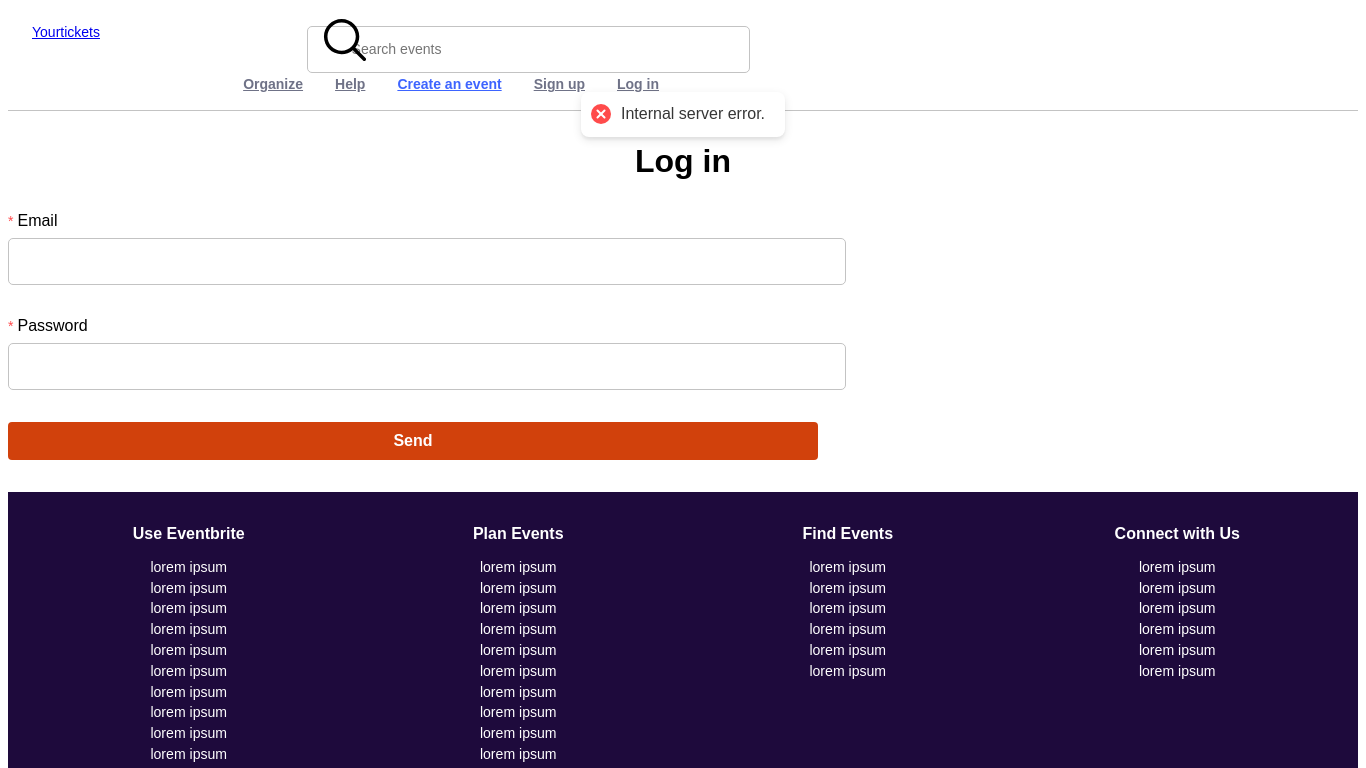
it: <LoginPage/> check validations › should validate required fields
Expected: the text "Email is a required field" is not shown
Expected: the text "Password is a required field" is not shown
Click the button "Send". click: [413, 441]
box: [8,422,818,460]
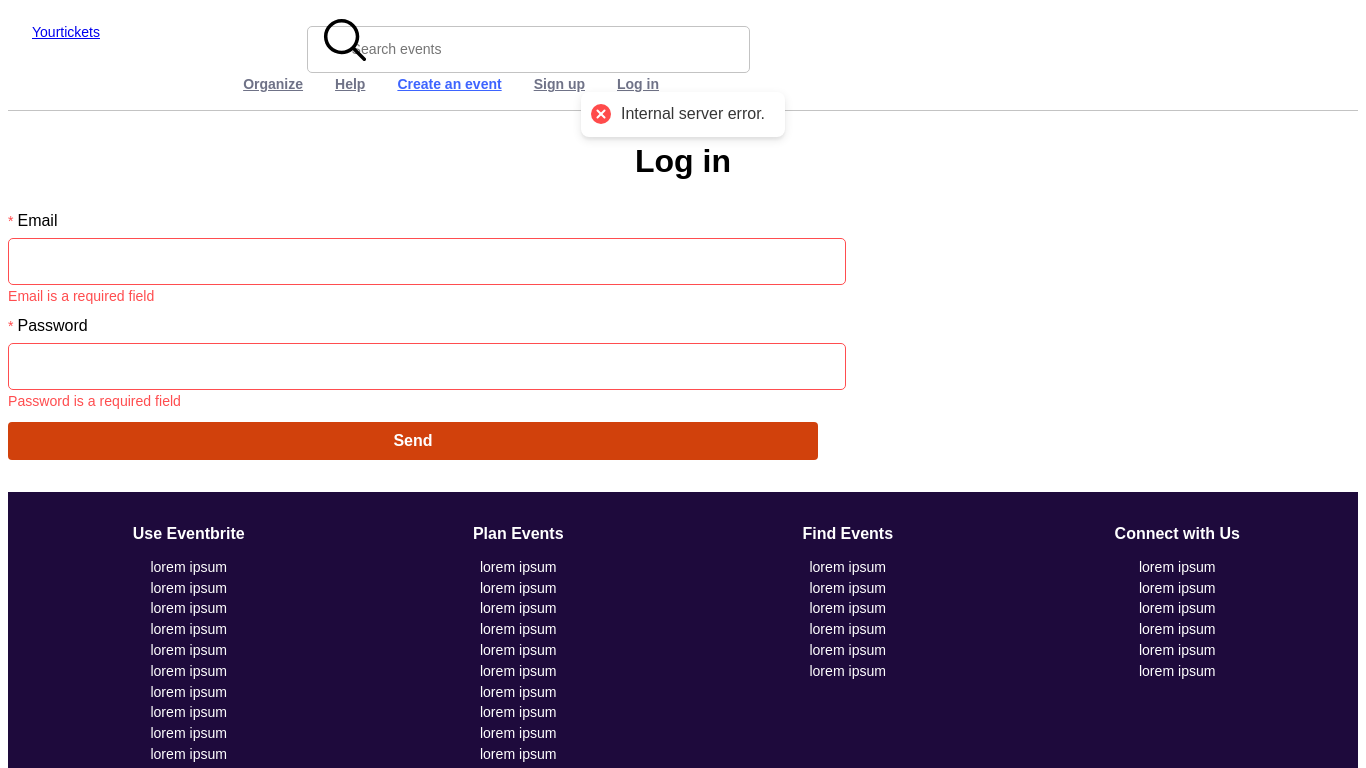
Expected: the text "Email is a required field" is shown, [8,288,154,304]
Expected: the text "Password is a required field" is shown, [8,393,181,409]
